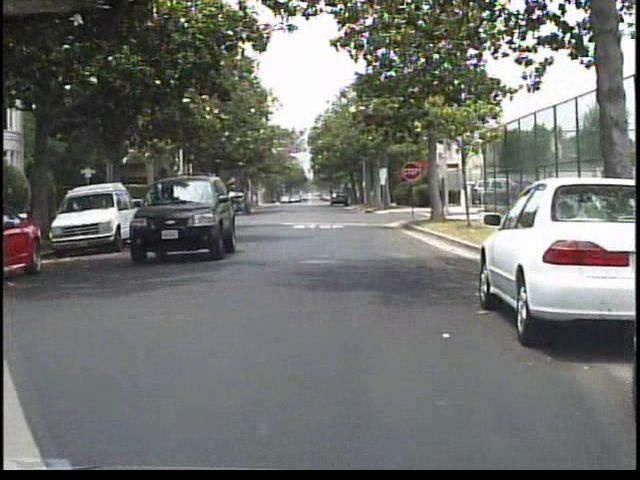person: (240, 182, 260, 224)
